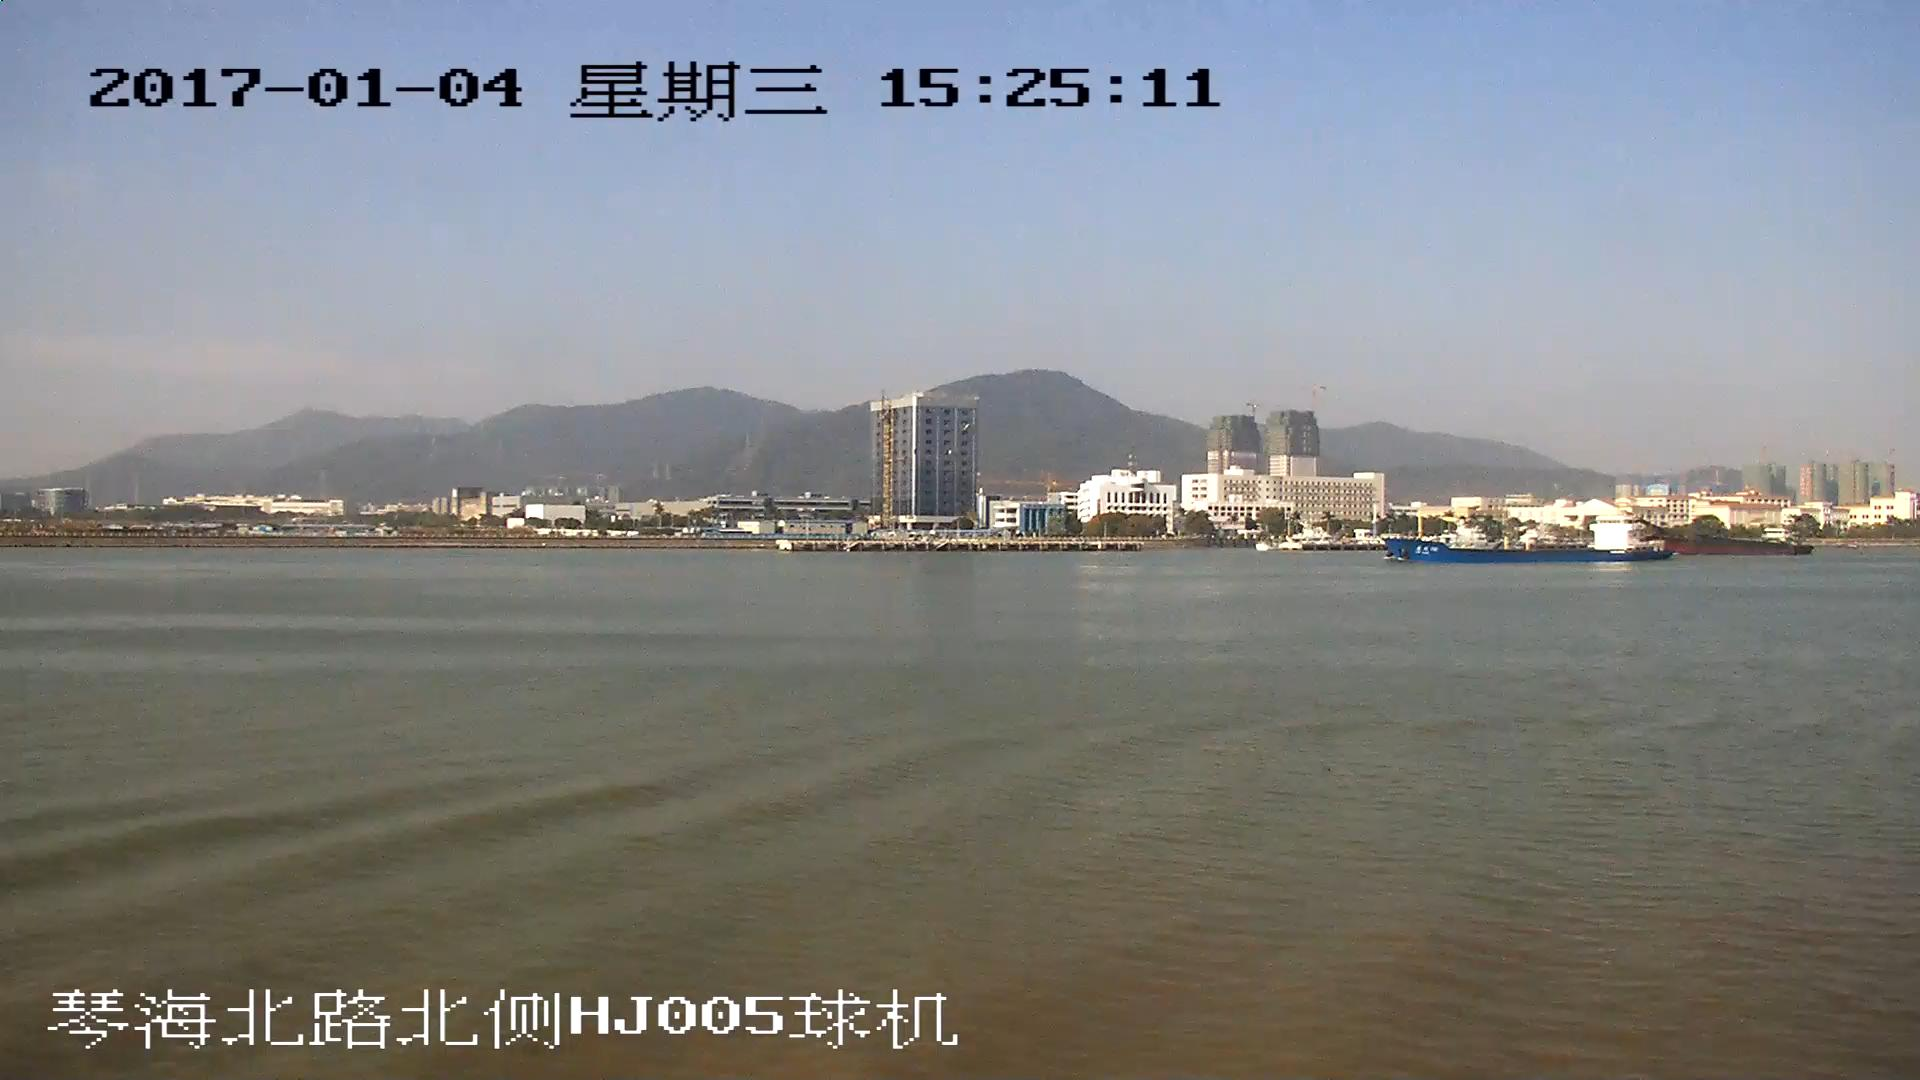general cargo ship: (1385, 512, 1667, 562)
